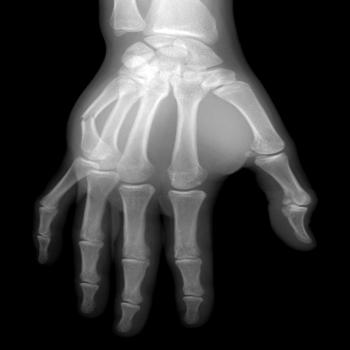Fracture: (74, 108, 106, 126)
